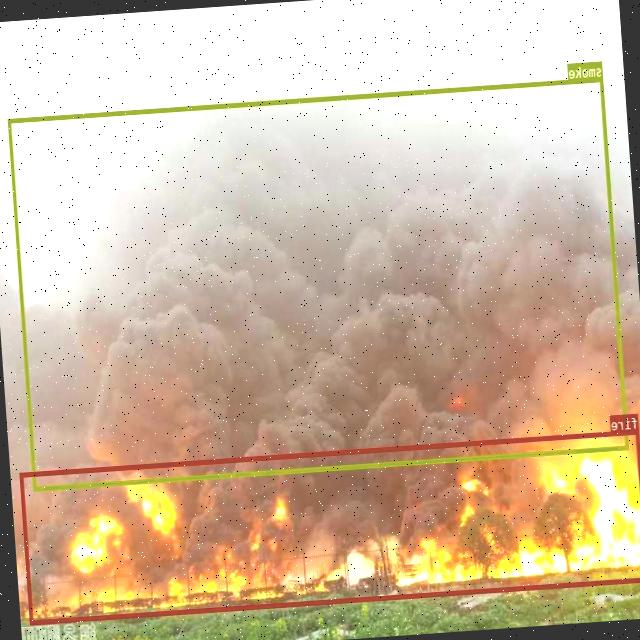fire: (20, 429, 640, 624)
smoke: (8, 76, 630, 490)
